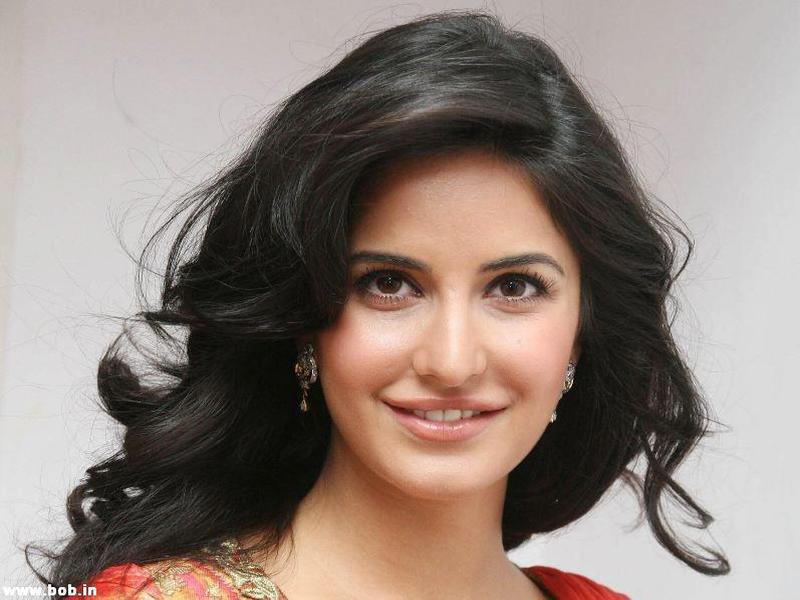without_mask: (319, 180, 580, 501)
